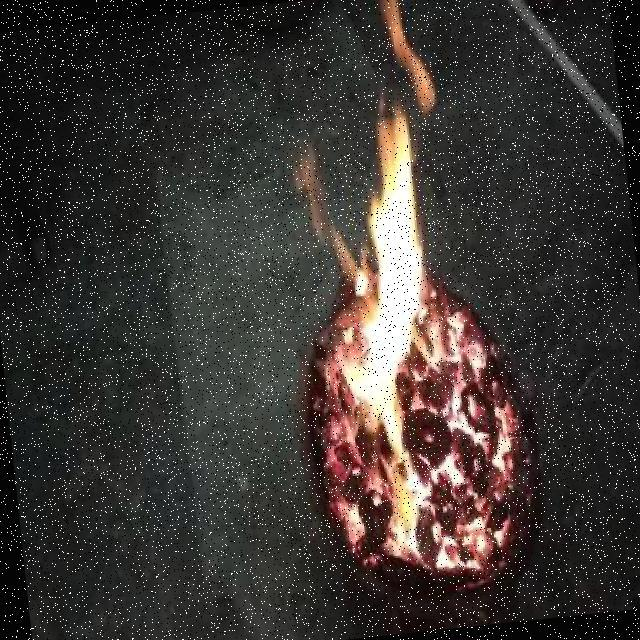Fire: (278, 0, 555, 592)
